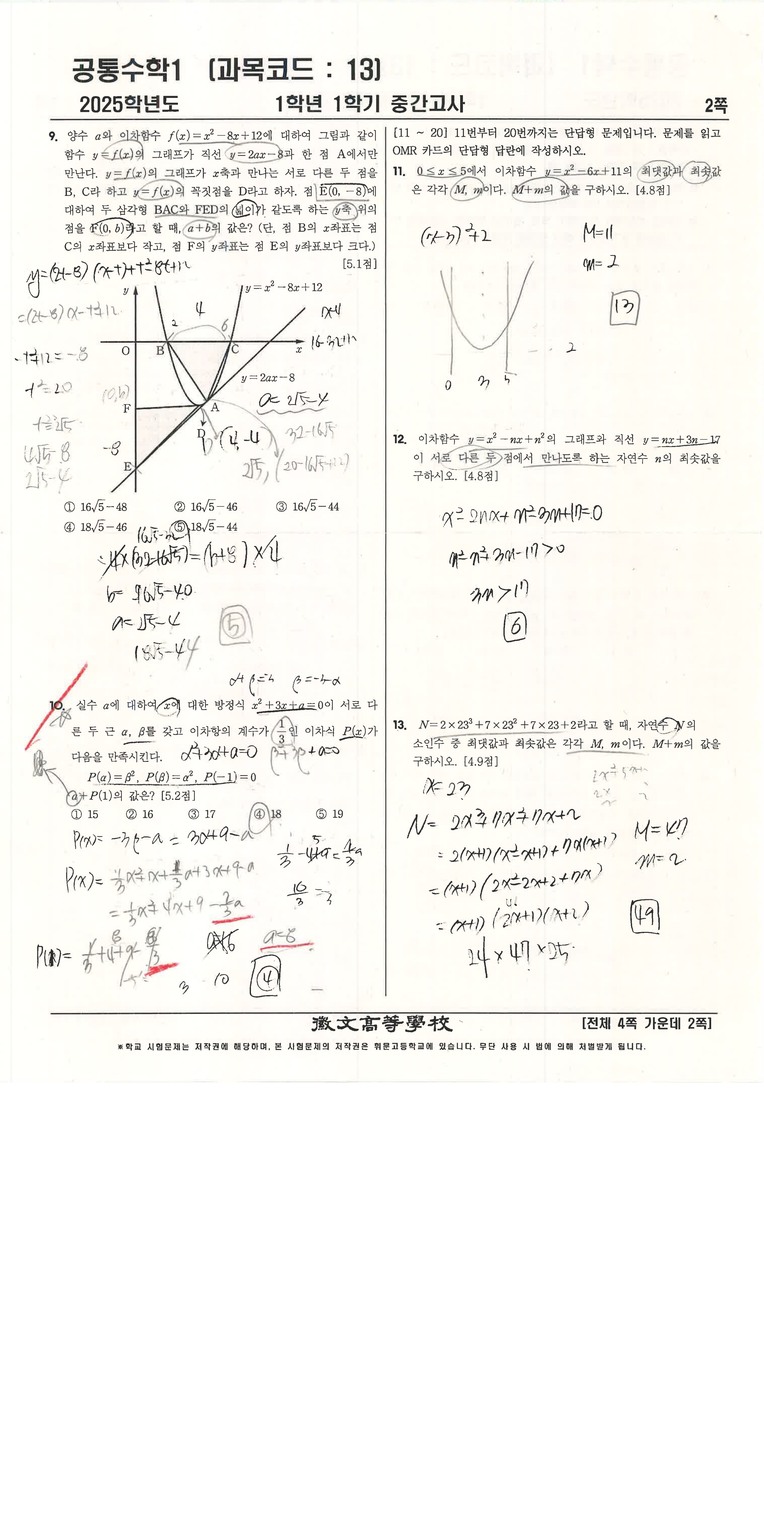problem: (44, 125, 381, 538), (36, 683, 381, 824), (392, 418, 727, 489), (393, 709, 728, 780), (387, 156, 730, 211)
